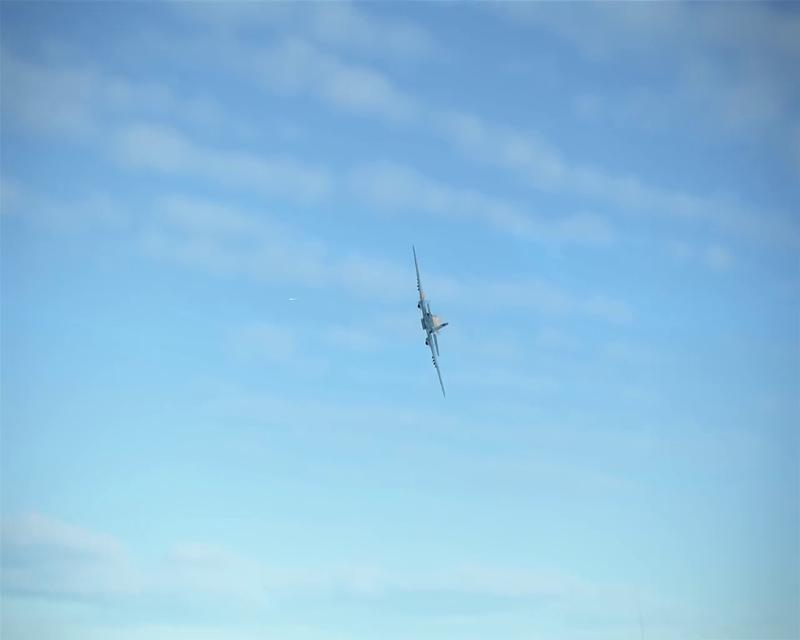UAV: (410, 243, 449, 397)
